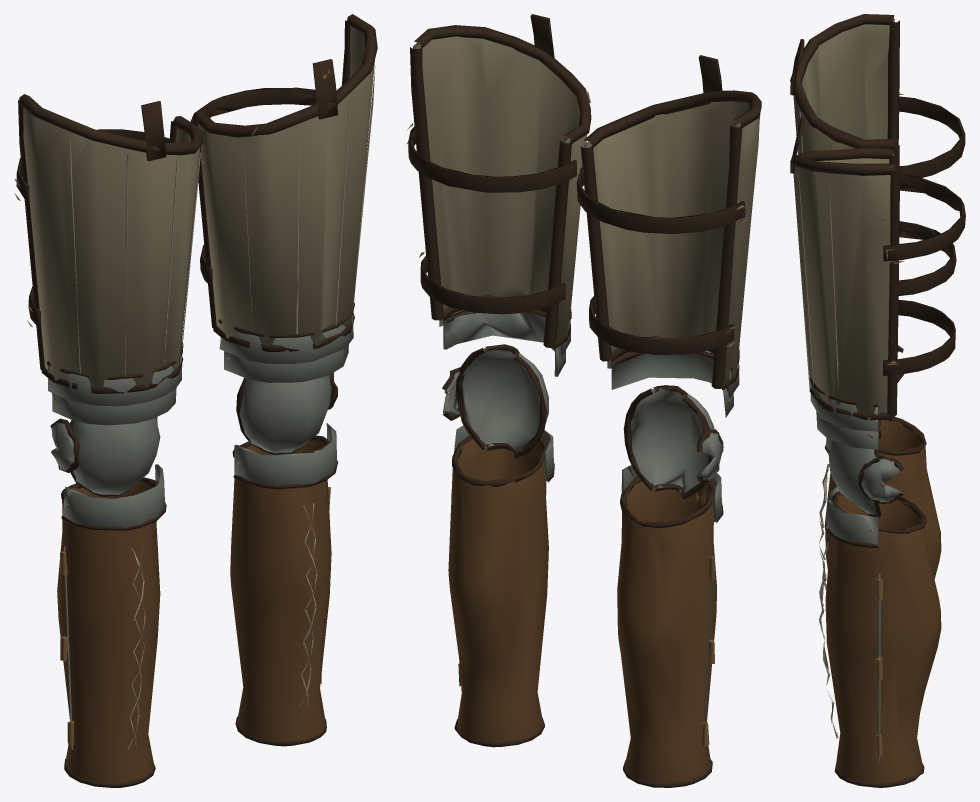
3 renders of one model, left to right at view 1: azimuth 30°, elevation 25°; view 2: azimuth 150°, elevation 25°; view 3: azimuth 270°, elevation 25°, orthographic. The views are drawn at different scales.
Visible parts, largest first — view 1: tanned leather, aged alloy edge; view 2: tanned leather, aged alloy edge; view 3: tanned leather, aged alloy edge.
Part boxes in pixels (x1,y1,x2,y2): tanned leather: (16, 14, 377, 787); aged alloy edge: (14, 69, 353, 749); tanned leather: (408, 14, 761, 787); aged alloy edge: (406, 122, 747, 750); tanned leather: (790, 14, 965, 787); aged alloy edge: (796, 48, 903, 761).
Size of the model in its own units: 0.4188 by 0.8142 by 0.1996.
